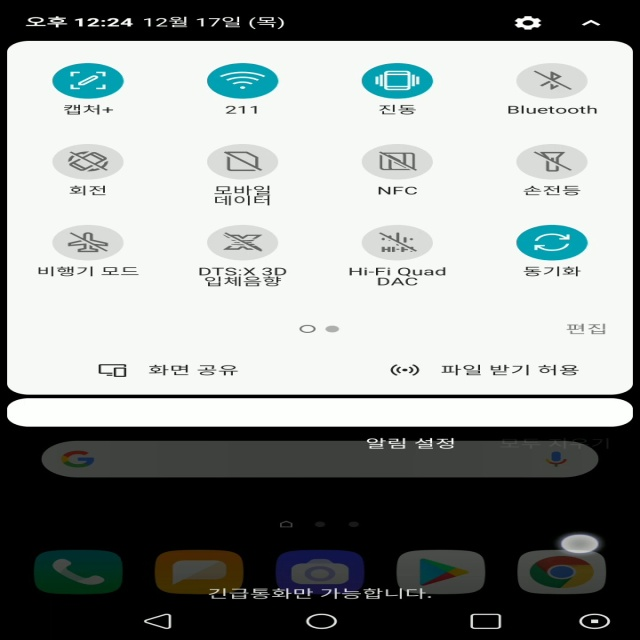Cursor: (558, 532, 602, 555)
